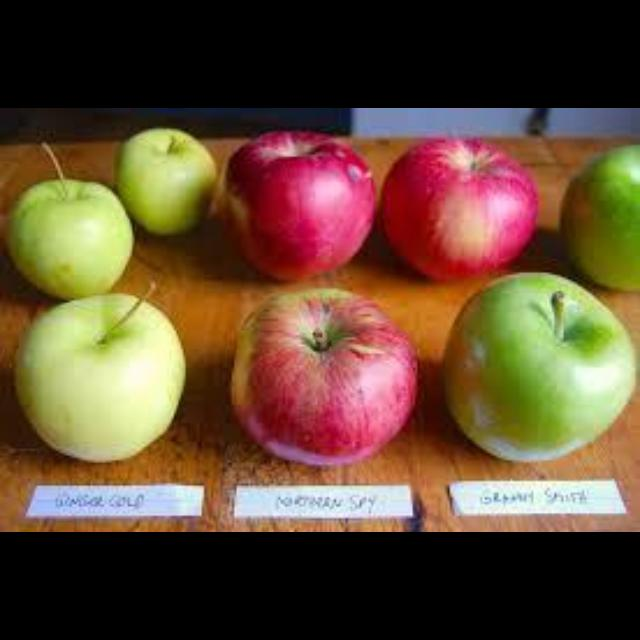apple: (443, 273, 633, 458), (230, 289, 415, 465), (14, 284, 183, 460), (380, 138, 536, 280), (227, 131, 373, 277), (7, 143, 132, 298), (559, 145, 638, 289), (116, 129, 216, 233)
